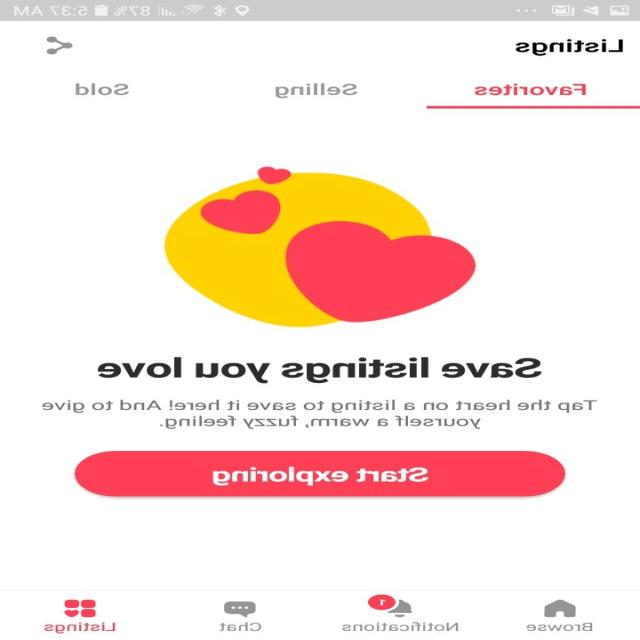Icon: (368, 594, 413, 617), (544, 598, 577, 617), (224, 600, 257, 618), (65, 599, 97, 617), (46, 36, 74, 55)
Image: (164, 166, 476, 328)
Text: (41, 399, 598, 429), (97, 356, 544, 384), (516, 38, 624, 56), (276, 82, 358, 99), (474, 83, 586, 95), (342, 621, 459, 631), (45, 621, 116, 634), (76, 82, 130, 96), (526, 621, 593, 631), (220, 621, 262, 631)
TextButton: (74, 451, 566, 496)
